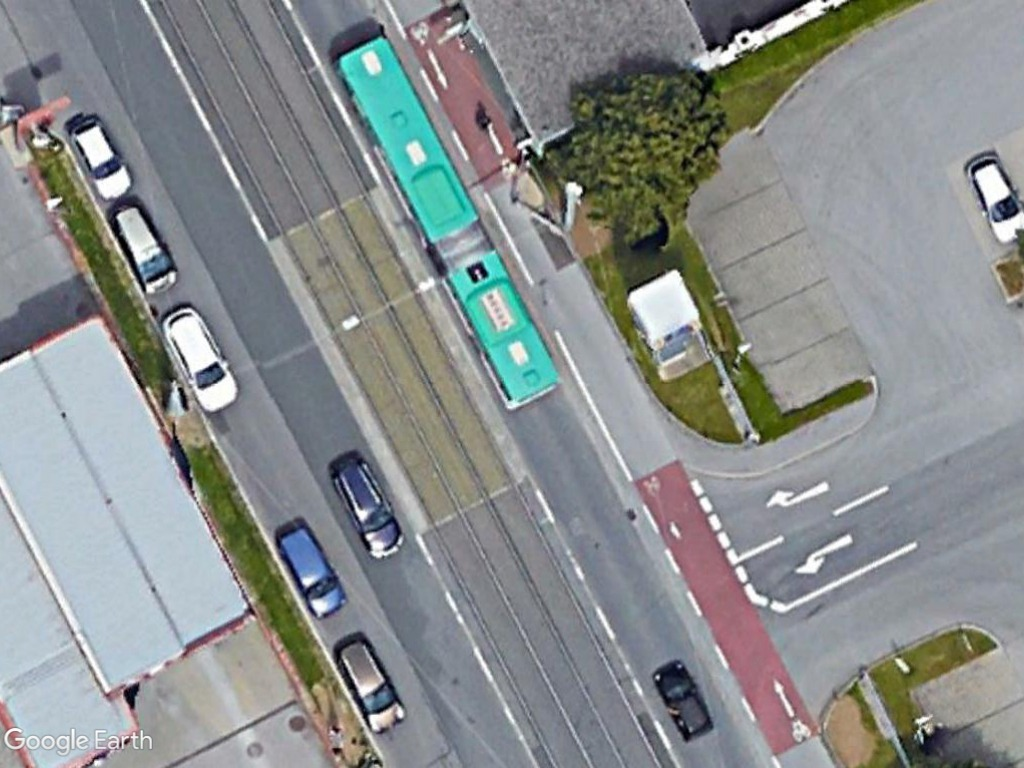bus: (319, 26, 565, 414), (324, 26, 486, 255)
car: (157, 300, 241, 417), (265, 513, 350, 623), (328, 448, 409, 562), (103, 198, 182, 303), (330, 633, 409, 735), (956, 146, 1024, 249), (644, 655, 720, 747), (67, 112, 137, 208)
